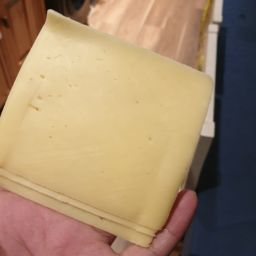Cheddar cheese: (2, 7, 219, 240), (3, 137, 174, 250)
